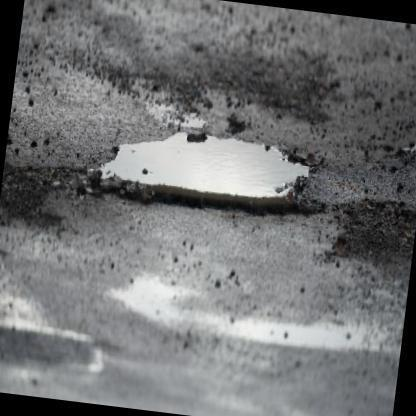pothole: (84, 130, 326, 218)
